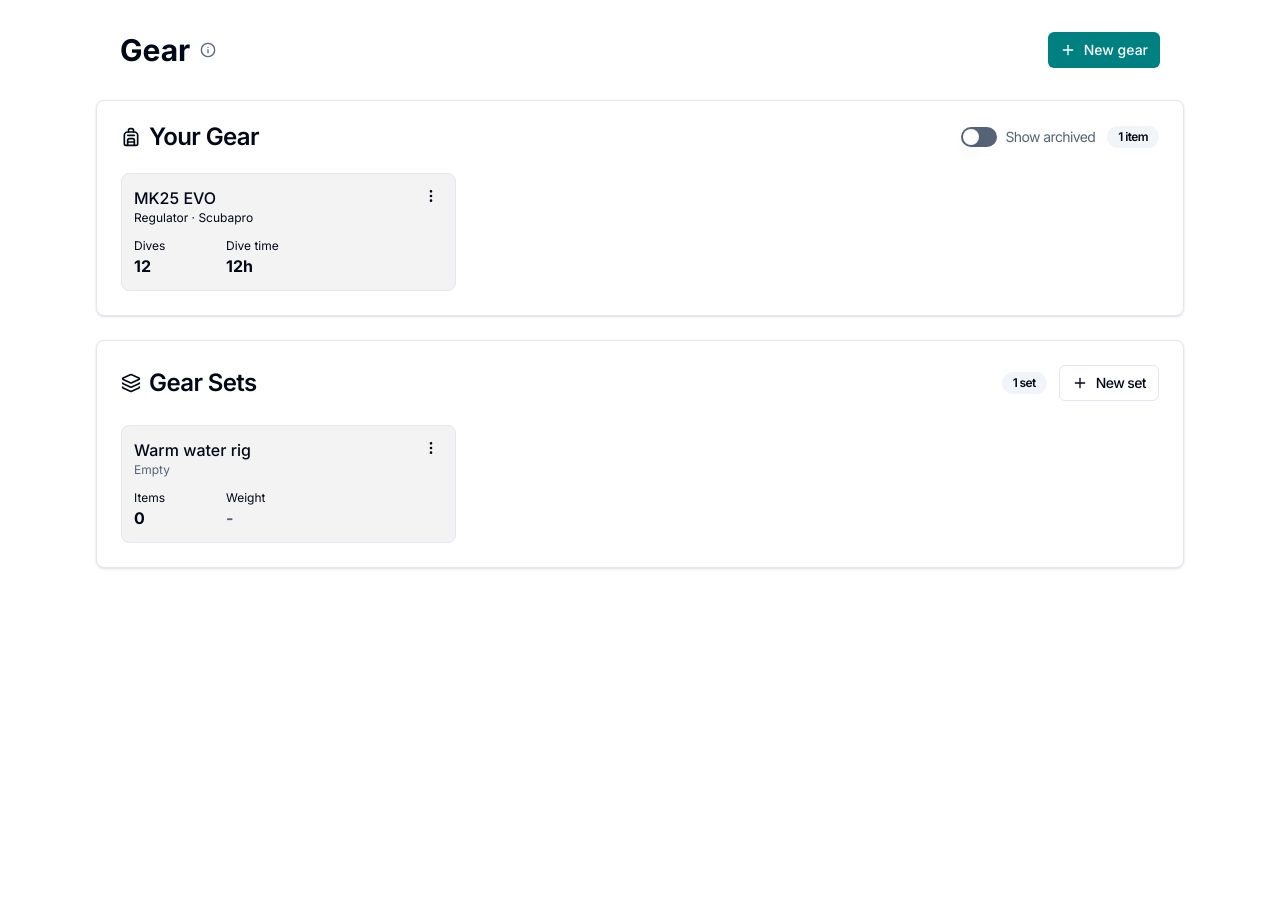
gear card menus name their card › opens a duplicated set as a new one, named after the original
Step 1. Click the button named "Actions for Warm water rig" → click(431, 448), box [411,430,451,466]
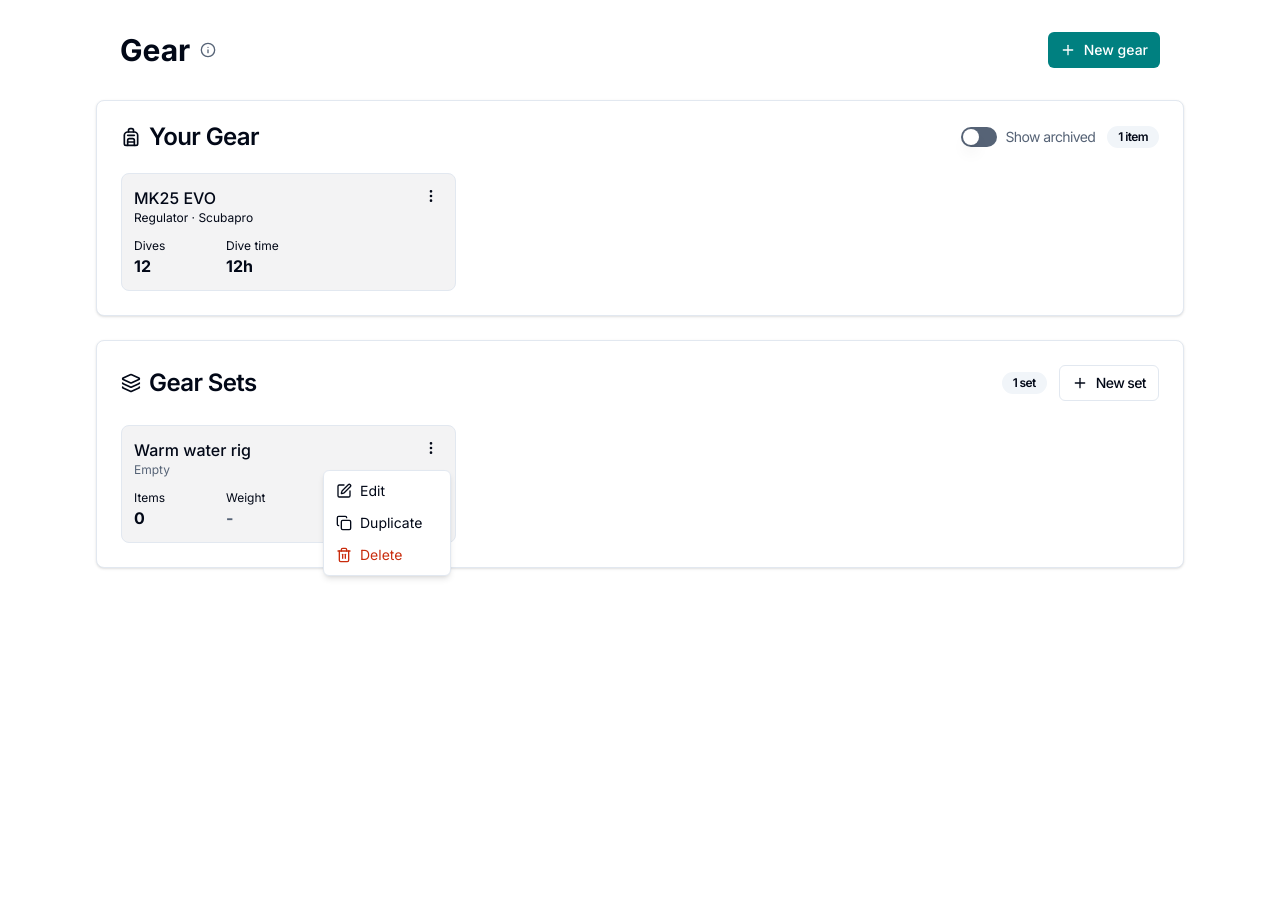
Step 2. Click the menu item "Duplicate" → click(379, 522), box [336,514,422,531]
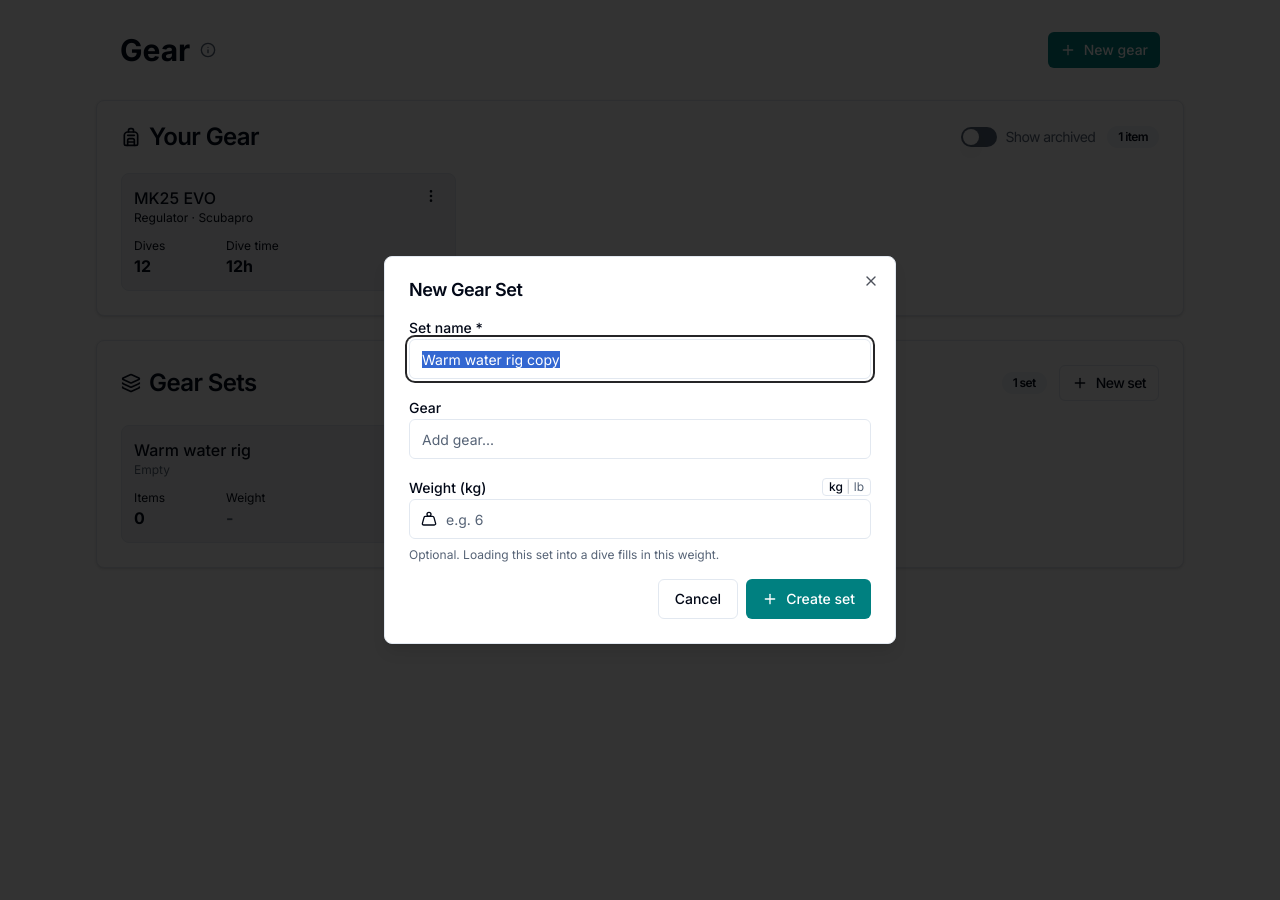
expect the heading "New Gear Set" is shown: met, box [409,279,522,300]
expect the field labelled "Set name *" holds "Warm water rig copy": met, box [409,339,871,379]
